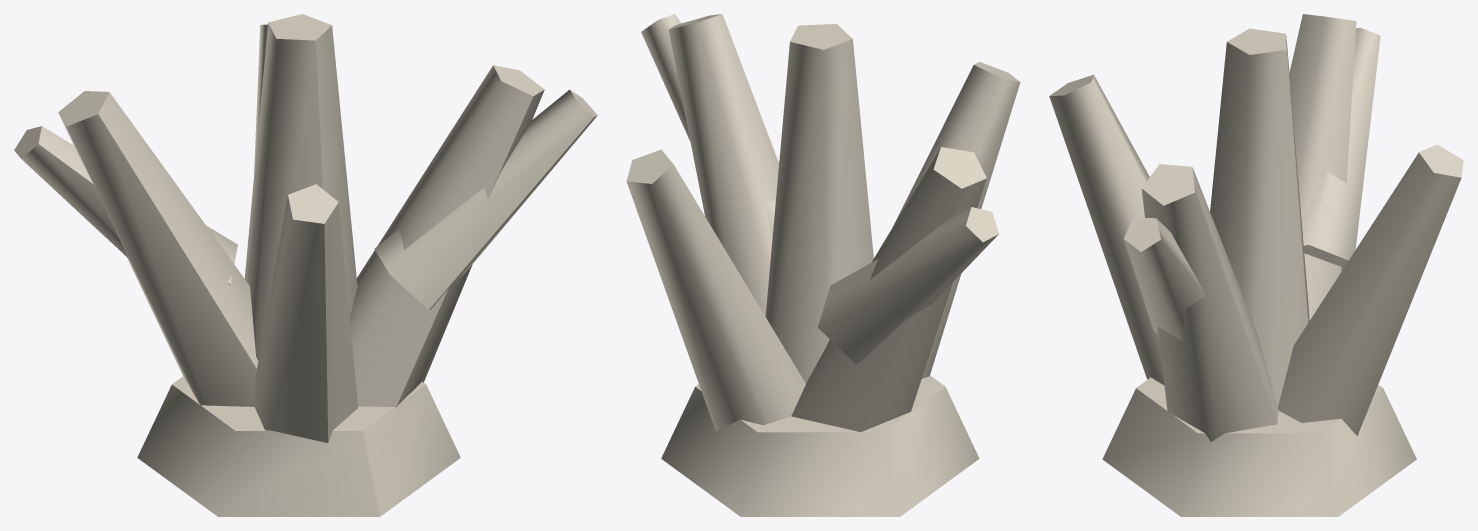
Rendered from coral-0.glb.
The picture shows the model from 3 angles, left to right: view 1: azimuth 30°, elevation 25°; view 2: azimuth 150°, elevation 25°; view 3: azimuth 270°, elevation 25°; orthographic projection. The views are drawn at different scales.
Visible parts, largest first — view 1: coral-0; view 2: coral-0; view 3: coral-0.
Part boxes in pixels (<box>): coral-0: <box>14,14,597,516</box>; coral-0: <box>626,14,1020,516</box>; coral-0: <box>1049,14,1463,516</box>.
Size of the model in its own units: 0.467 by 0.41 by 0.3689.
